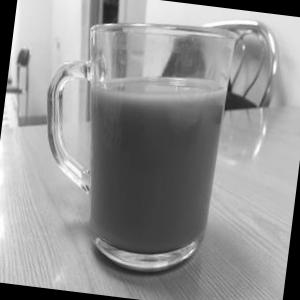coffee: (27, 9, 282, 300)
